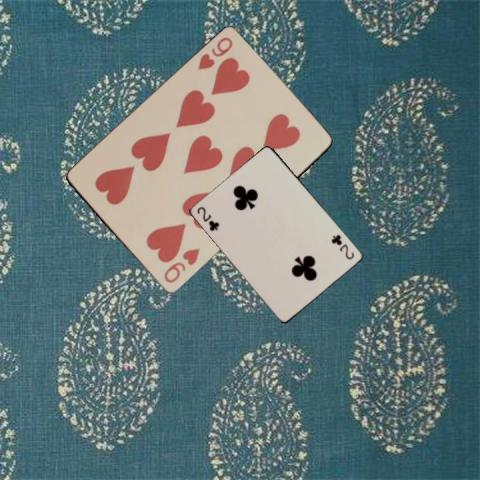2c: (329, 231, 356, 261), (194, 203, 221, 233)
9h: (161, 246, 201, 286), (194, 34, 235, 72)
